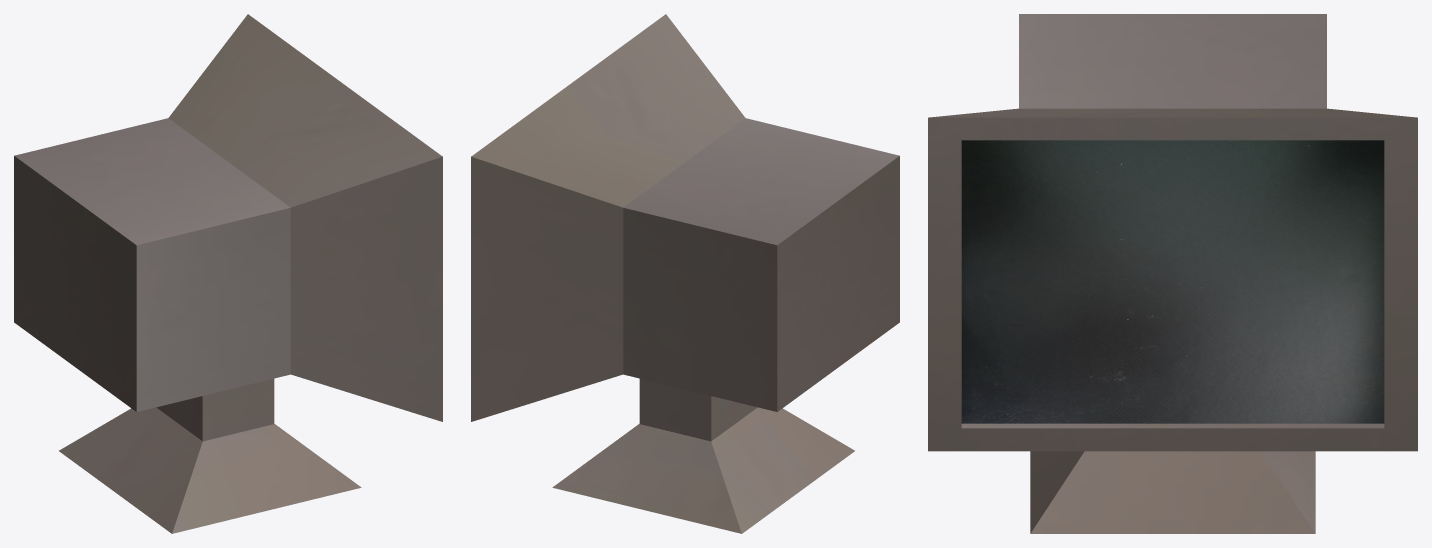
File: Monitor.fbx
3 views of the same model, side by side, from view 1: azimuth 30°, elevation 25°; view 2: azimuth 150°, elevation 25°; view 3: azimuth 270°, elevation 25° (orthographic). The views are drawn at different scales.
Parts seen in each view (by area): view 1: Cube; view 2: Cube; view 3: Cube.
Part boxes in pixels (bbox=[...]): Cube: bbox=[14, 14, 442, 533]; Cube: bbox=[471, 14, 899, 533]; Cube: bbox=[928, 14, 1417, 533].
Size of the model in its own units: 170 by 211 by 212.
